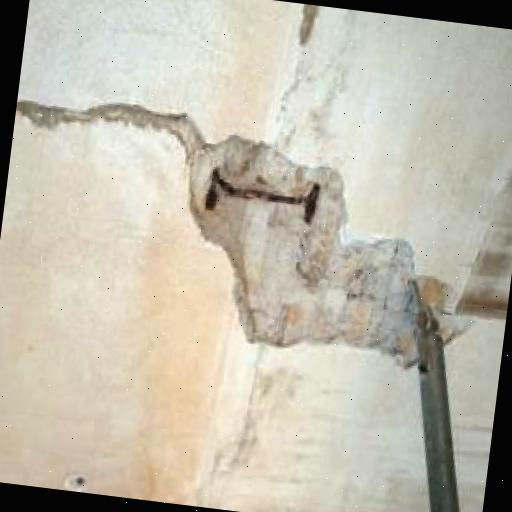spalling: (16, 92, 463, 367)
